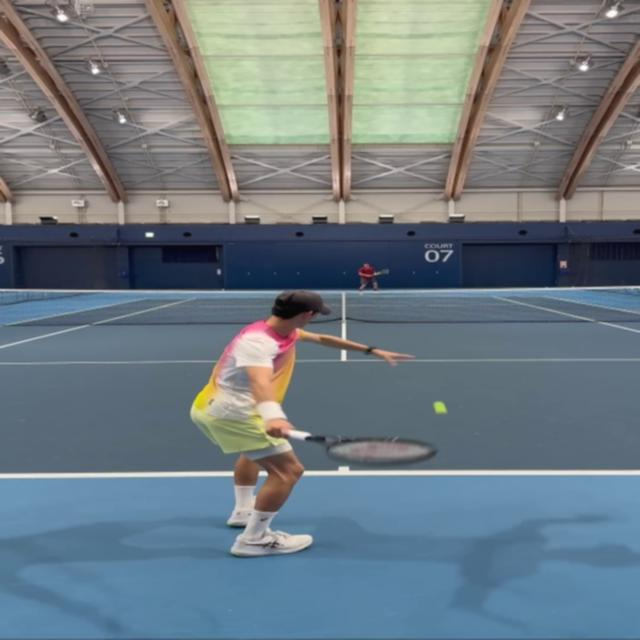tennis_ball: (436, 402, 445, 413)
